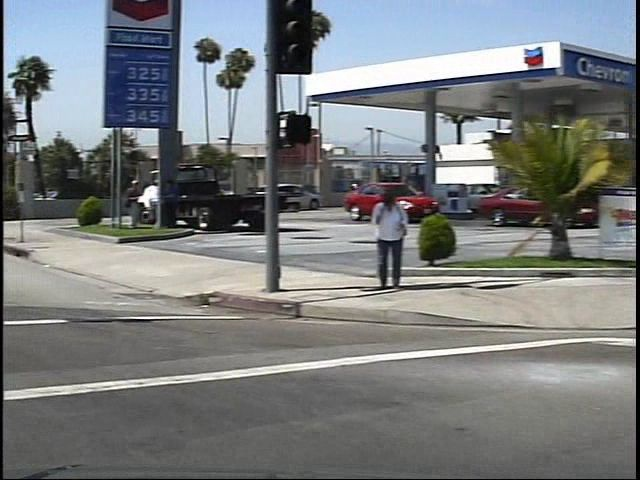person: (358, 184, 400, 292), (115, 176, 136, 233)
